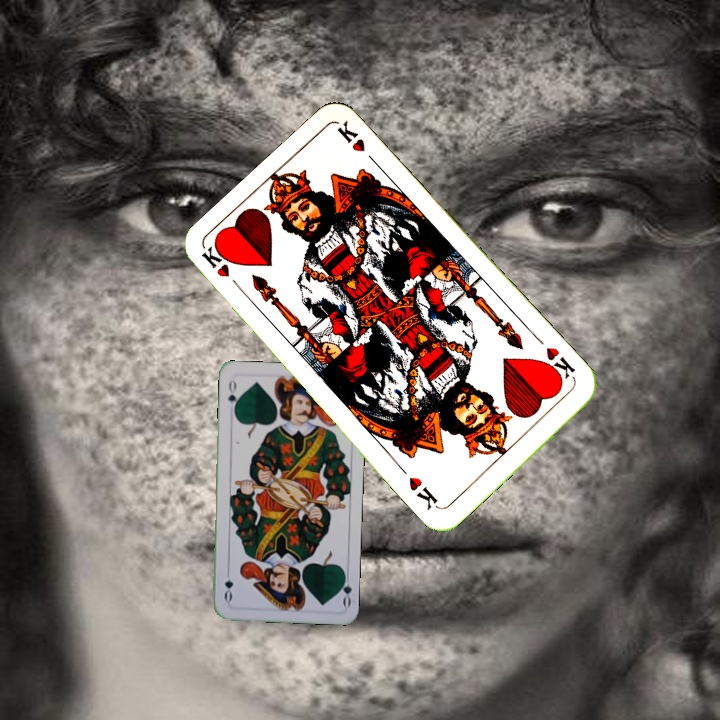GO: (335, 568, 354, 609), (224, 375, 241, 416)
HK: (198, 243, 246, 295), (537, 343, 578, 386)
